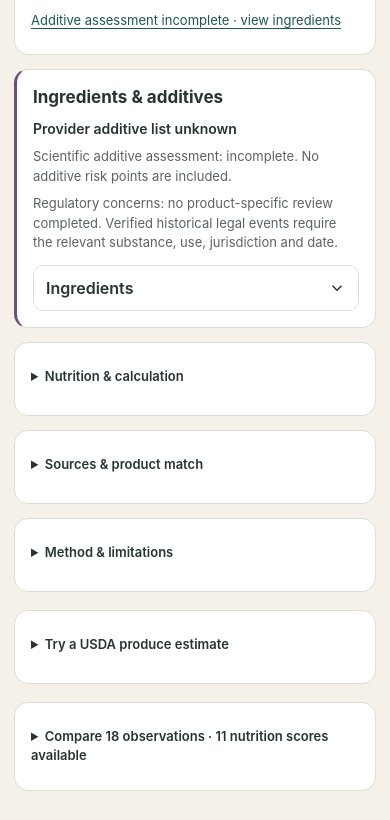
Scenario: unknown barcode requires deliberate confirmation and leaves the existing observation unchanged
This screenshot has width=390, height=820.
(page scrolled)
Click the heading "Try a USDA produce estimate": [137, 644] box 45,636 -> 229,652
(page scrolled)
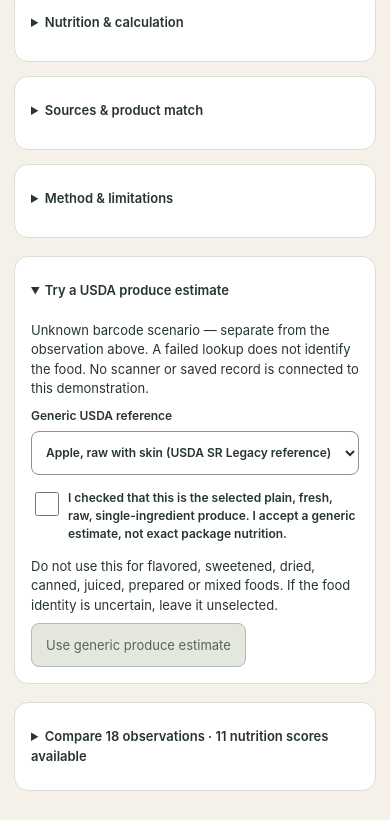
Result: the button "Use generic produce estimate" is disabled at 31,623 -> 246,667
Click the checkbox: [47, 504] box 35,492 -> 59,516
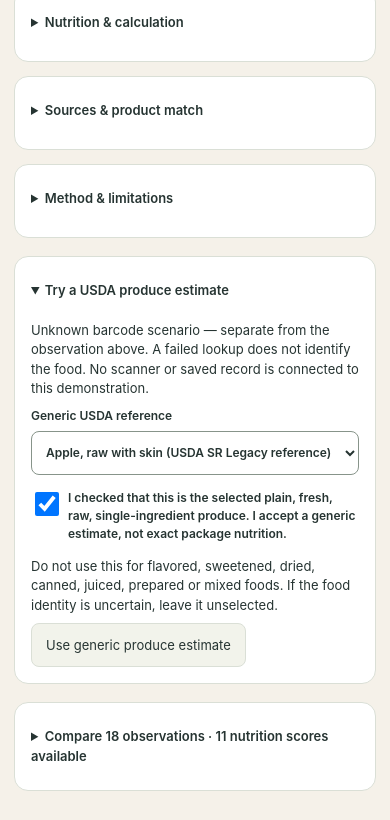
Click the button "Use generic produce estimate": [138, 645] box 31,623 -> 246,667
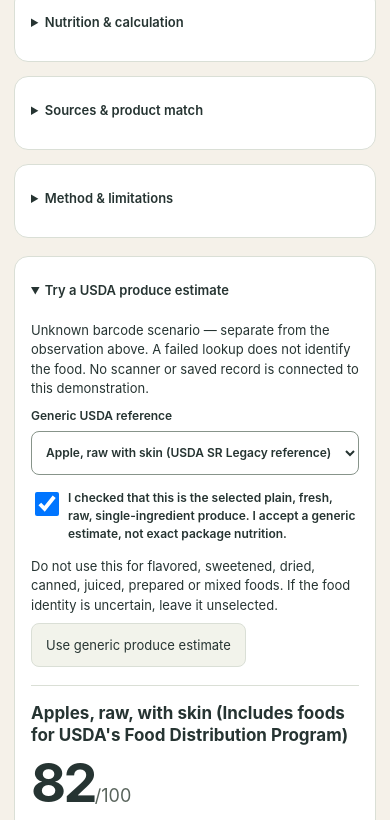
Result: the element named "Generic nutrition rating" reads "82/100" at 31,750 -> 131,816
